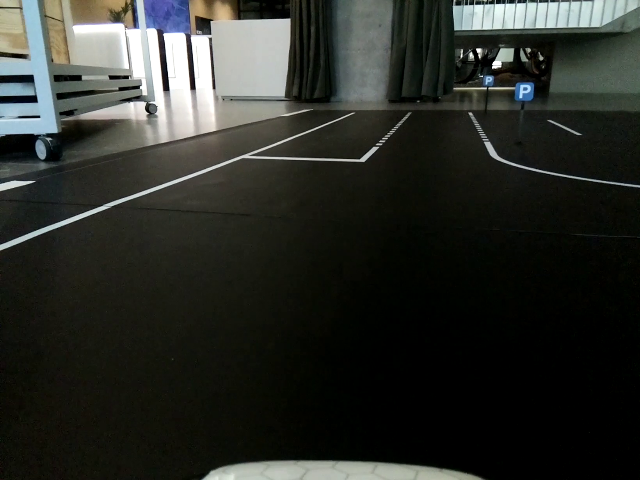park: (515, 83, 535, 100), (483, 75, 495, 87)
